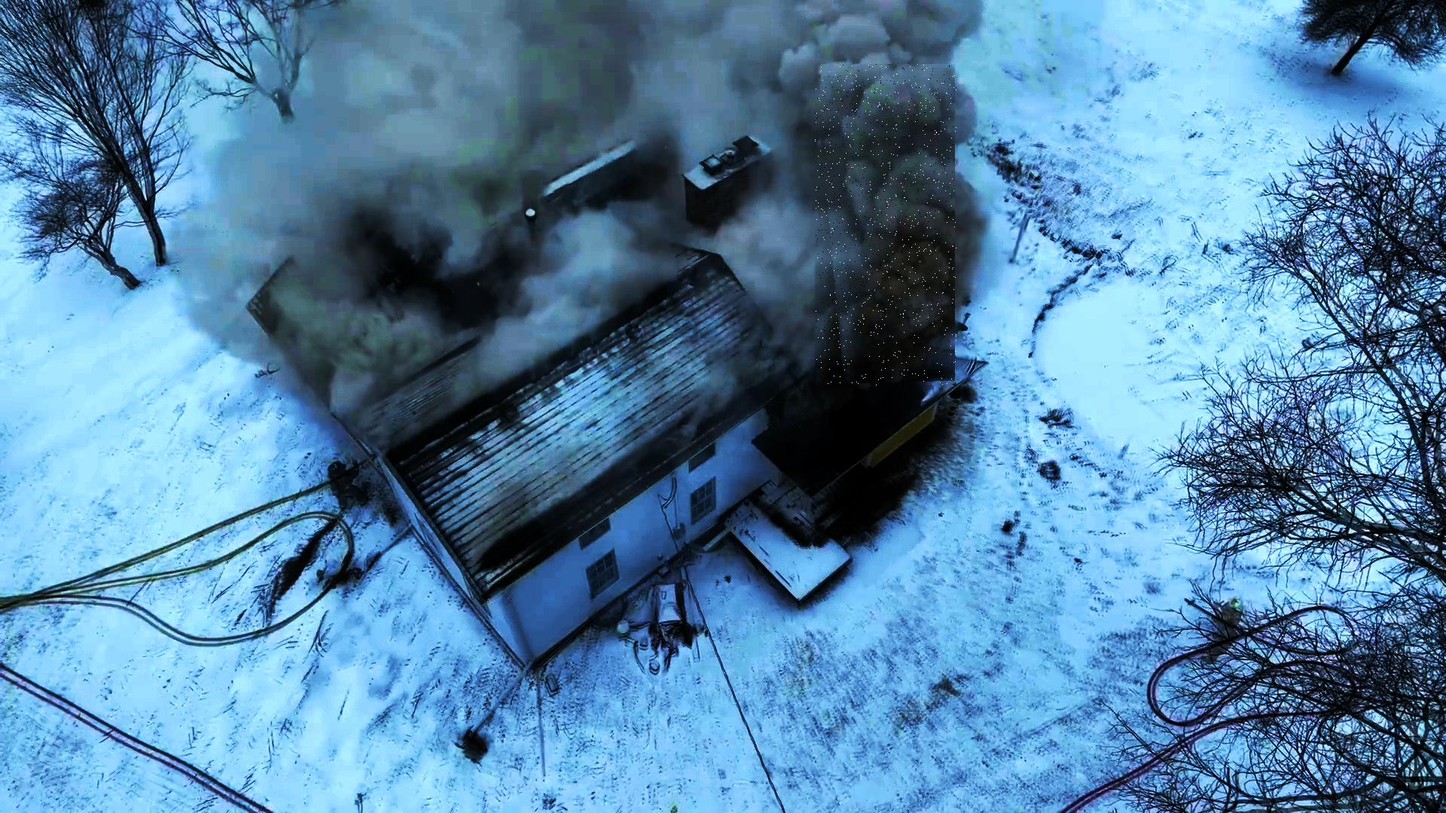smoke: (816, 64, 957, 386)
